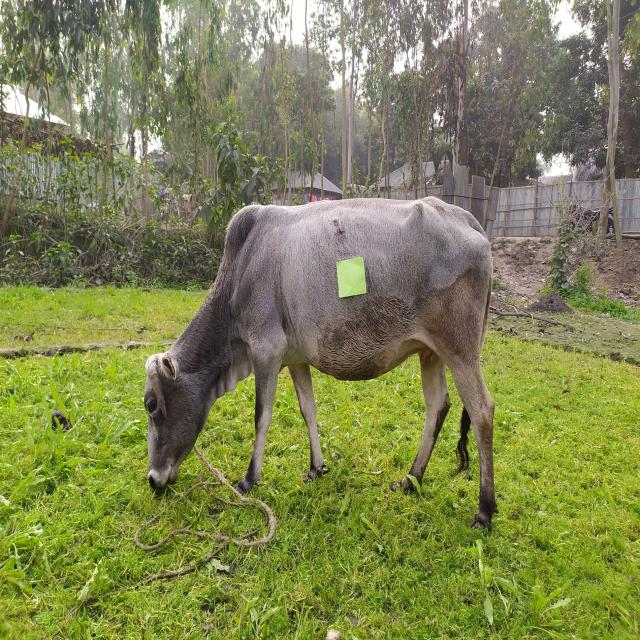badan_sapi: (253, 198, 481, 385)
sapi: (140, 190, 507, 533)
